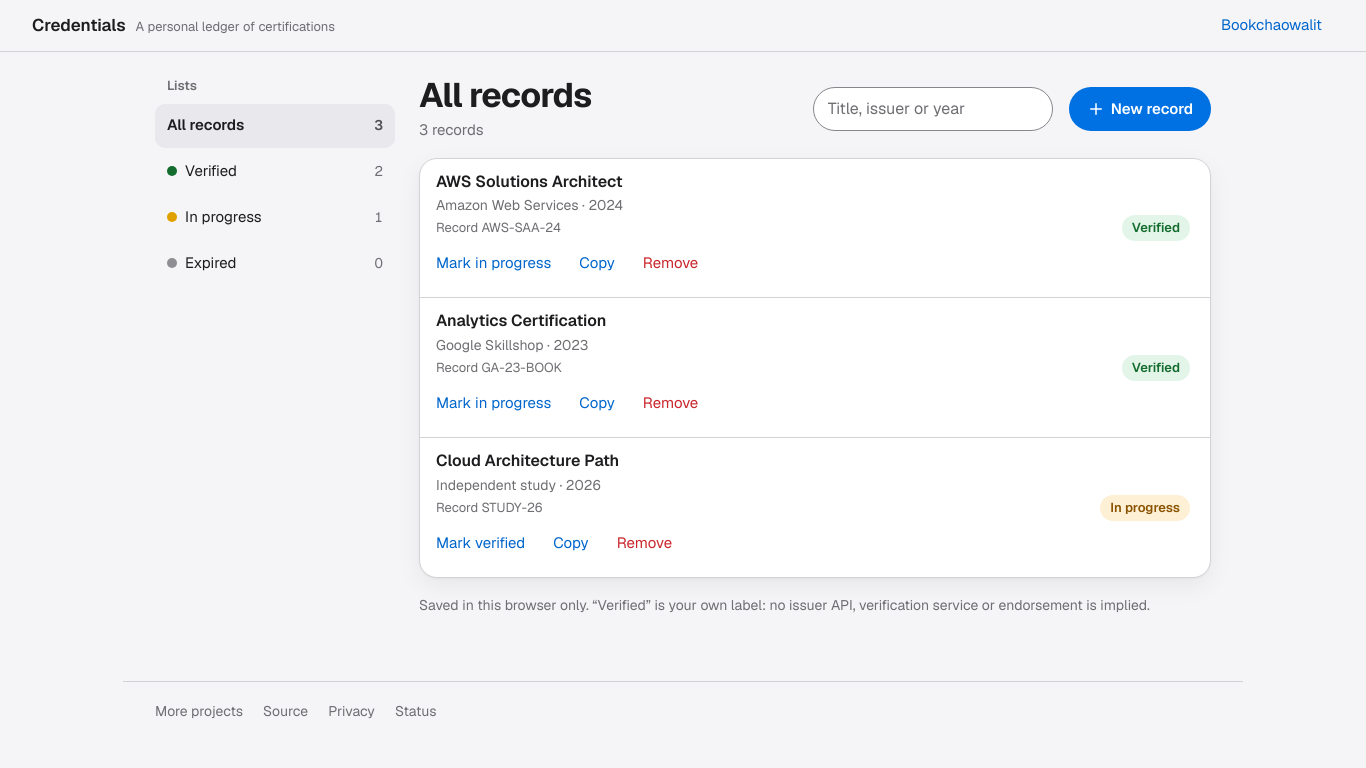
Test case: row actions › removes with an Undo toast that puts the record back in place
Click the button "Remove" below "GA-23-BOOK" at (670, 403), box [631,381,710,425]
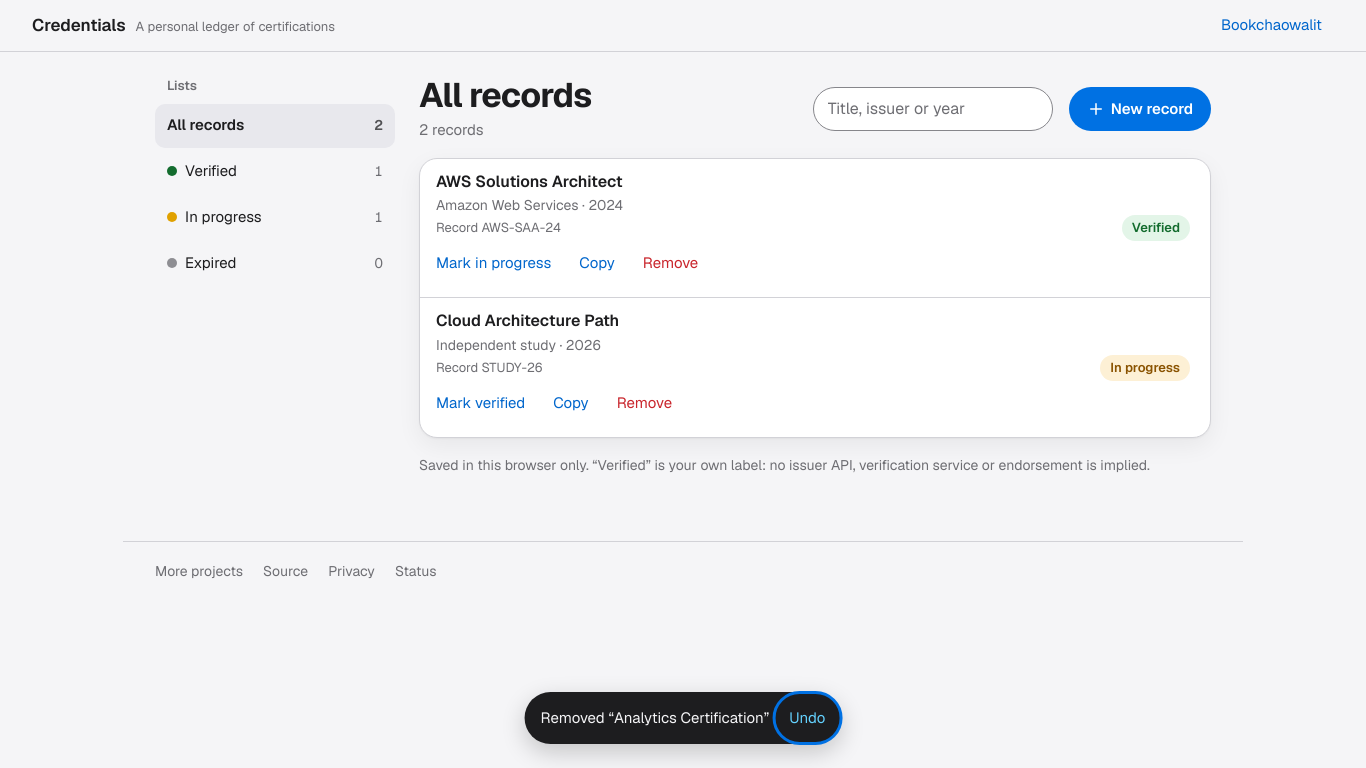
Click the button "Undo" at (807, 718), box [777,696,838,740]
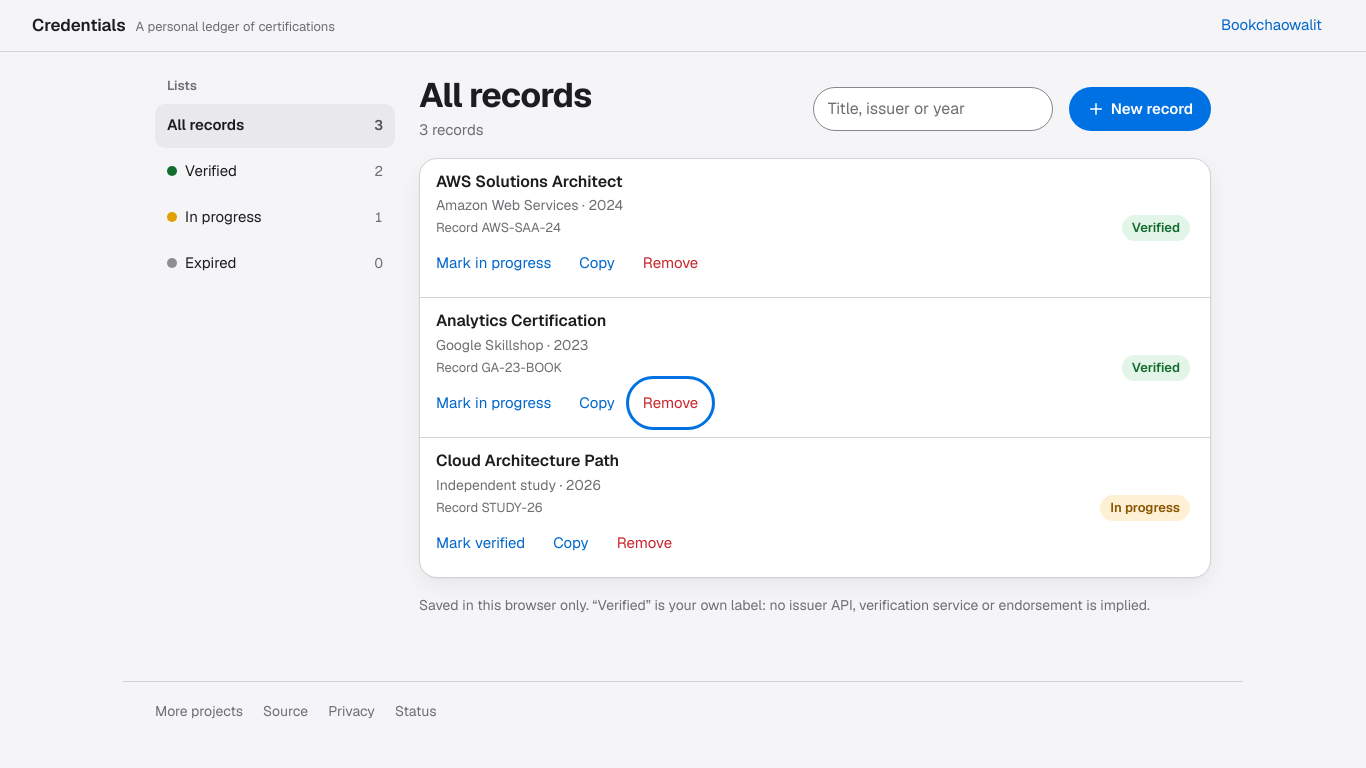
Expected: the element with class "as-toast" is gone
